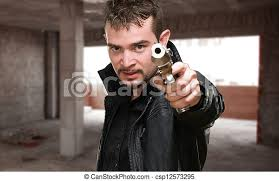gun: (148, 41, 193, 112)
